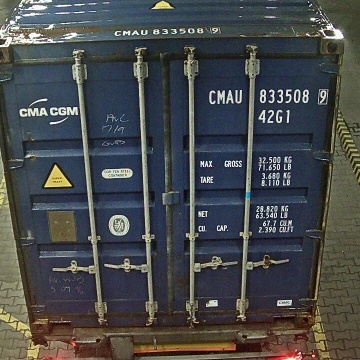serial_id: (209, 89, 327, 104)
